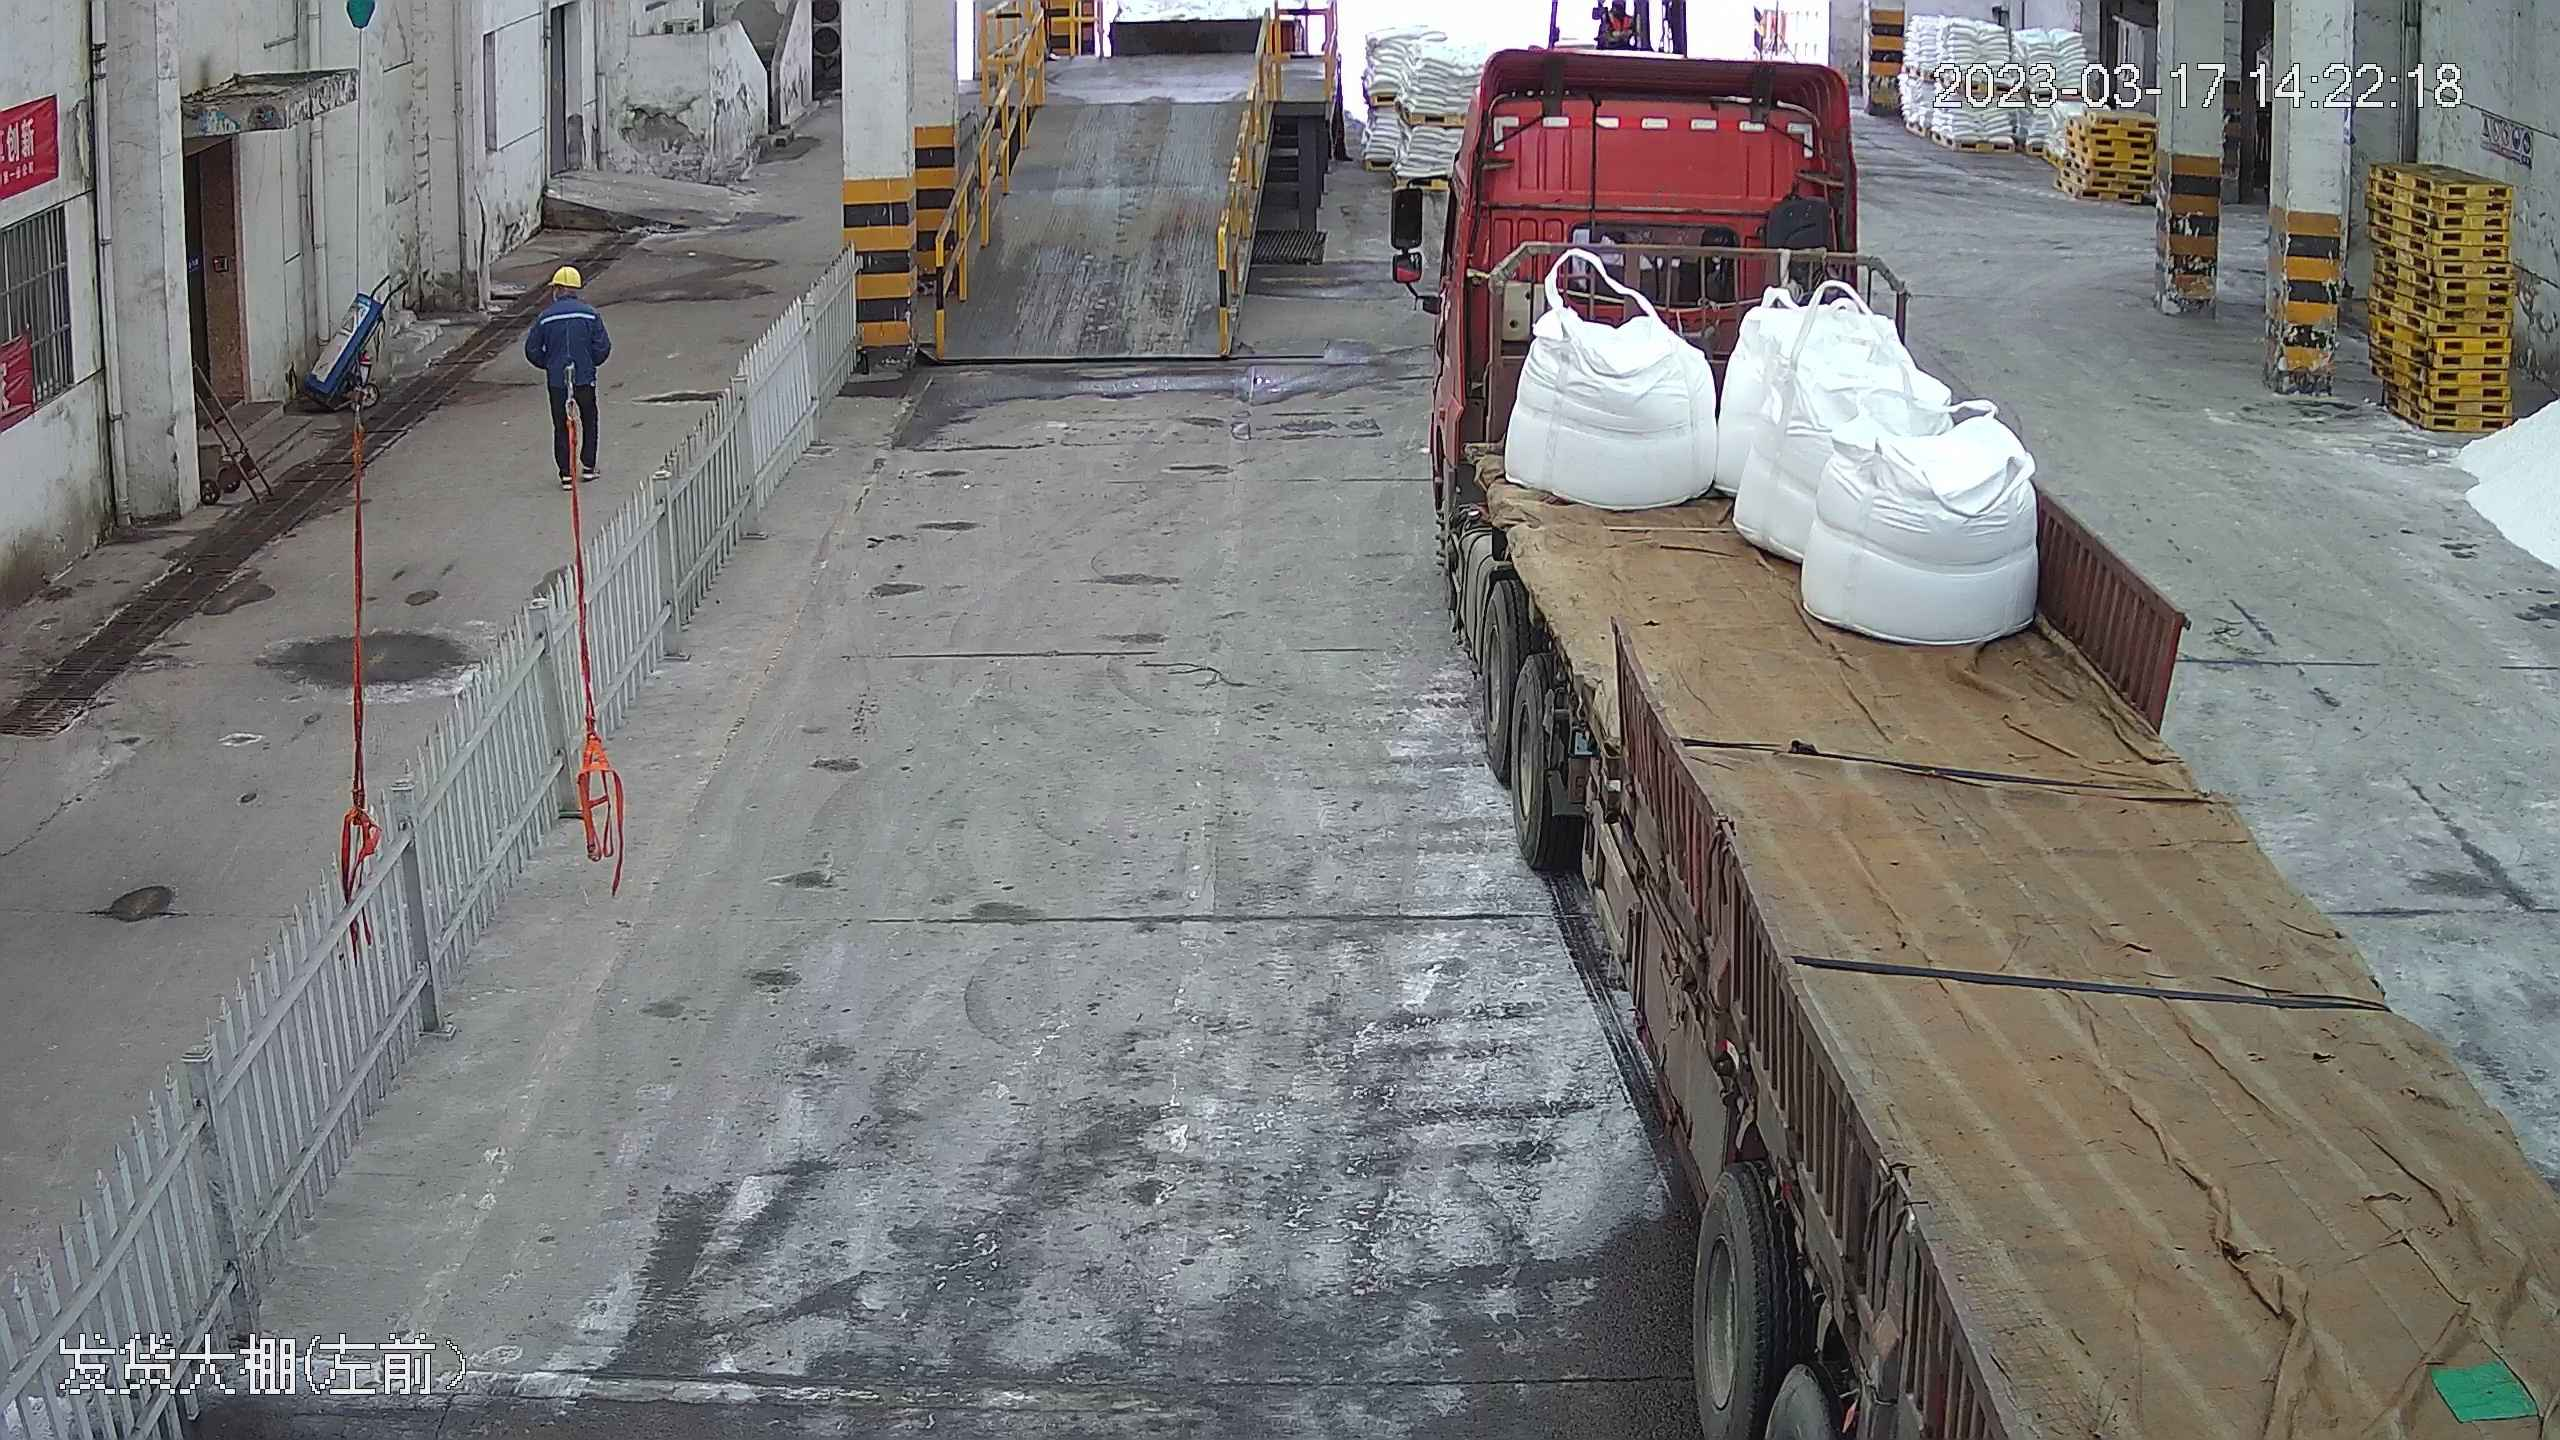head: (533, 262, 602, 334)
helmet: (548, 263, 585, 289)
people: (522, 257, 612, 485)
truck: (1407, 34, 2557, 1440)
